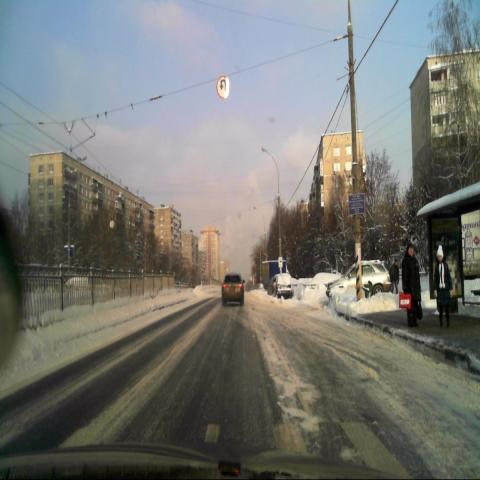3_19: (216, 74, 231, 100)
